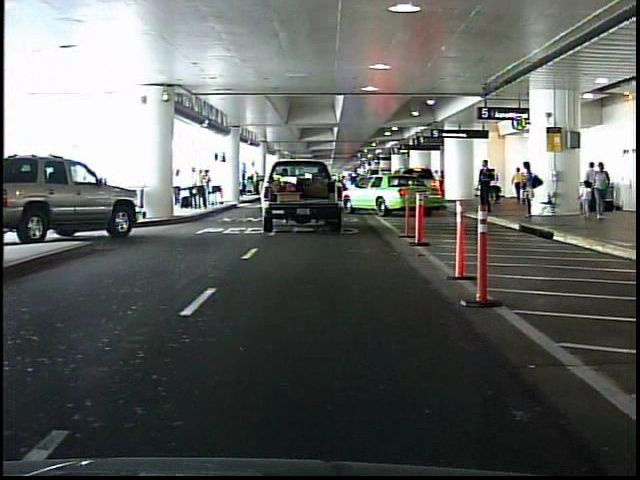person: (519, 157, 540, 220), (475, 156, 496, 216), (484, 161, 498, 208)
